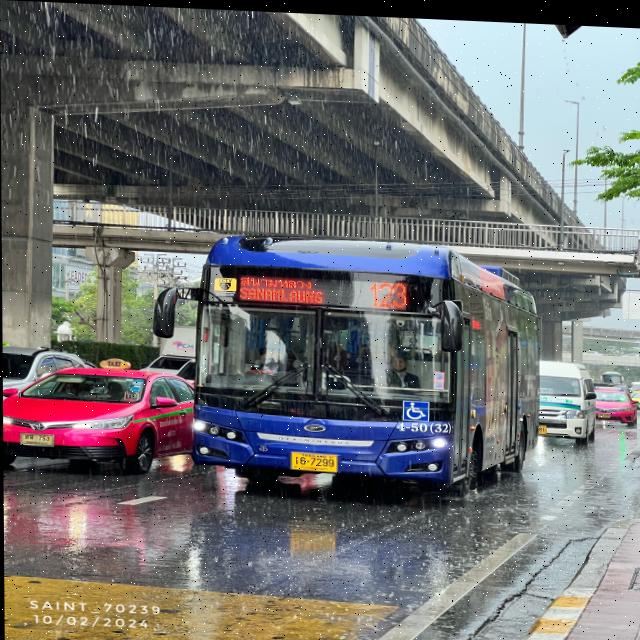Bus Line Number: (368, 274, 411, 307)
Bus Side Number: (392, 415, 454, 432)
Destination Sign: (235, 268, 326, 306)
TSB-Bus: (191, 233, 541, 491)
